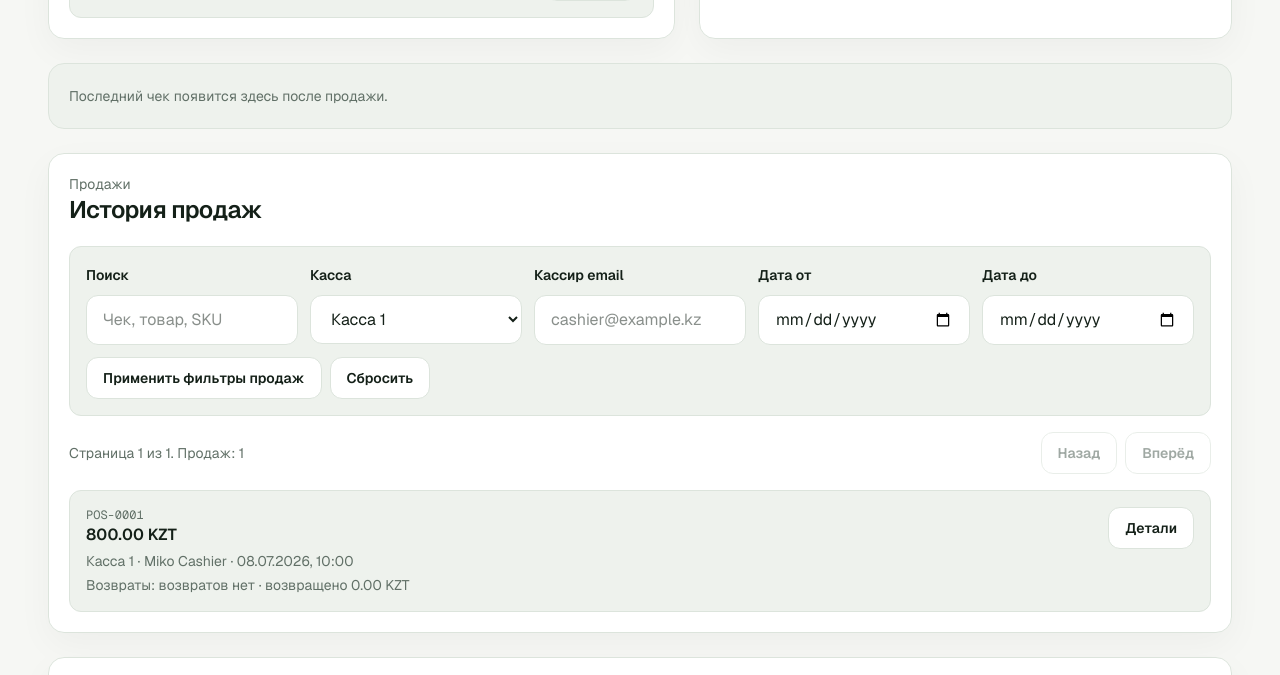
Test: POSManager sales history and receipt › applies sales history filters and opens sale details
(page scrolled)
In the search field labelled "Поиск": (192, 320) [86, 295, 298, 345], type "milk"
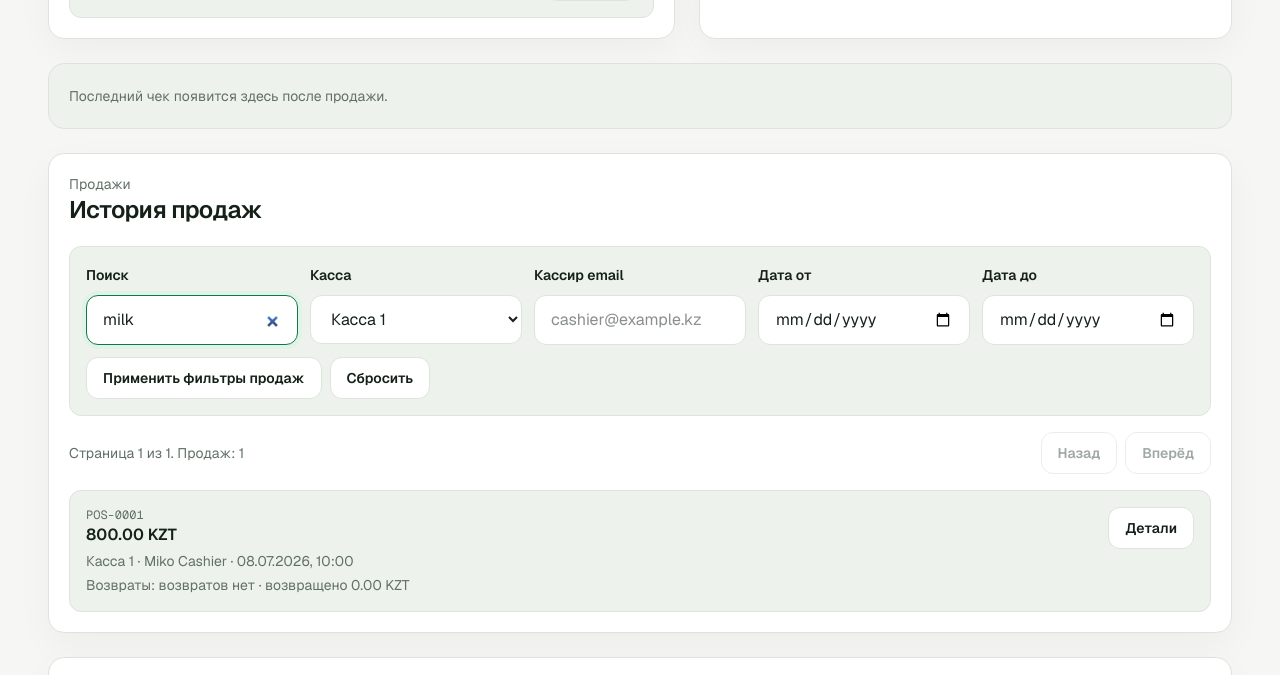
In the field labelled "Кассир email": (640, 320) [534, 295, 746, 345], type "cashier@example.test"
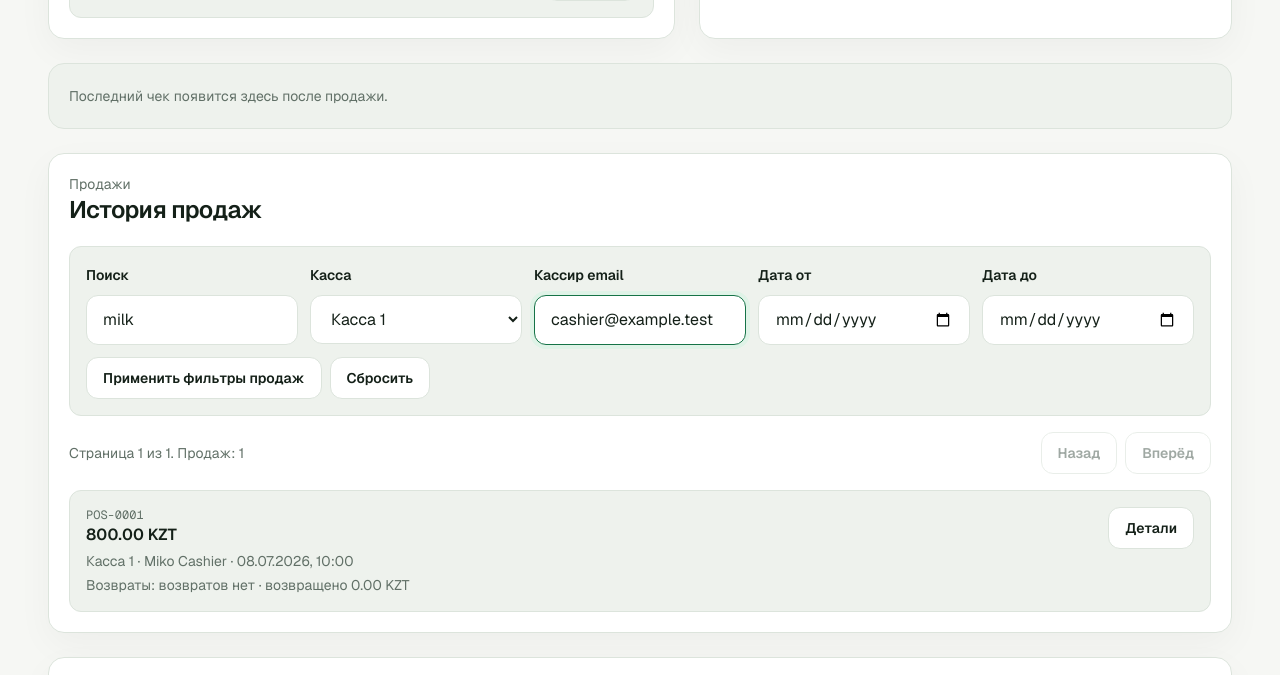
In the date field labelled "Дата от": (864, 320) [758, 295, 970, 345], type "2026-07-08"
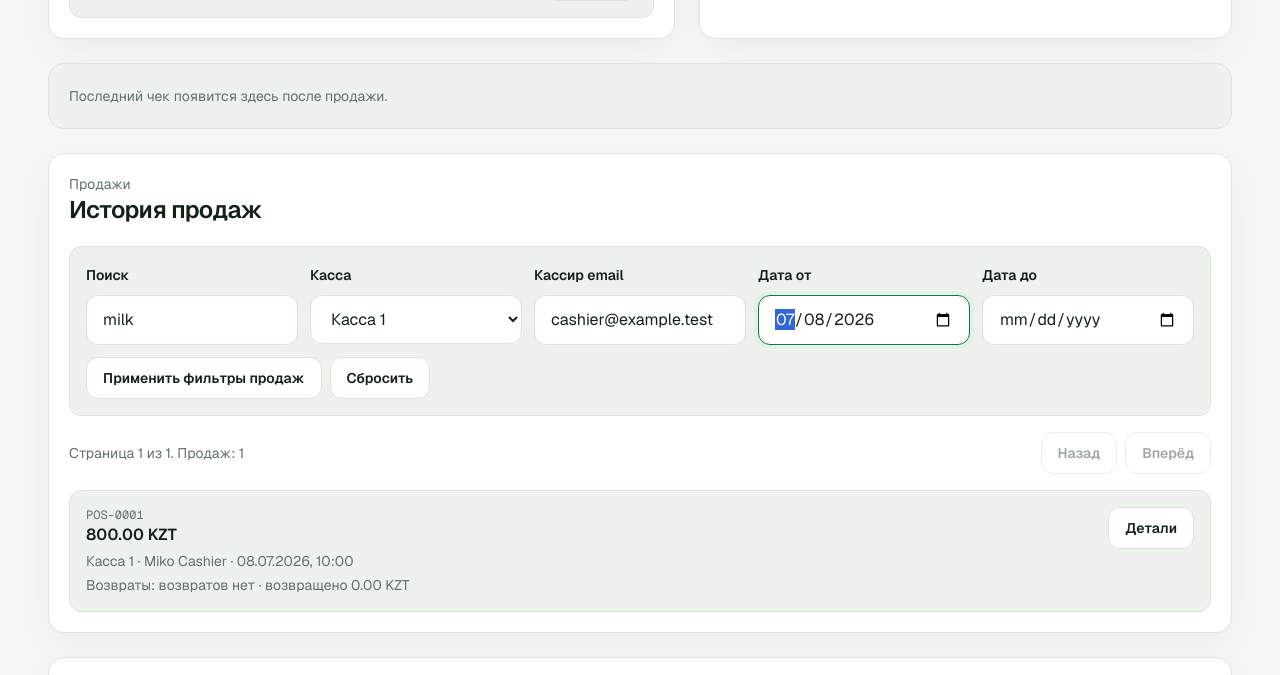
In the date field labelled "Дата до": (1088, 320) [982, 295, 1194, 345], type "2026-07-09"
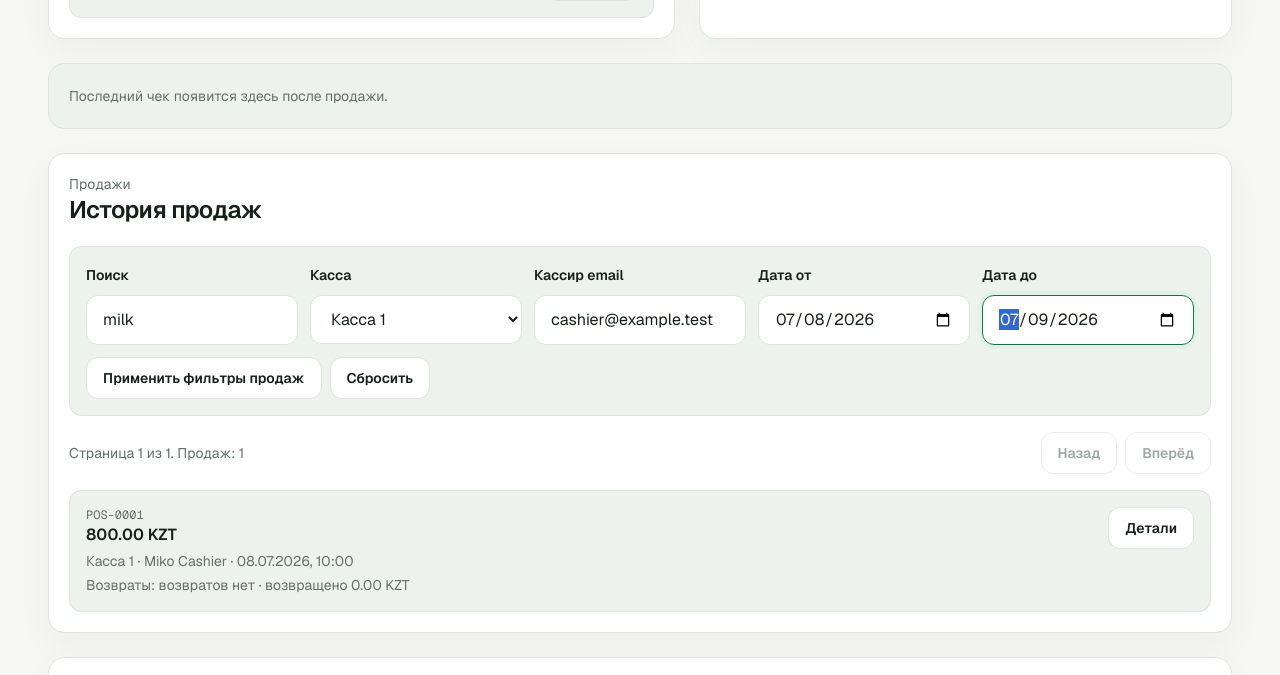
Click the button "Применить фильтры продаж": (204, 378) [86, 357, 322, 399]
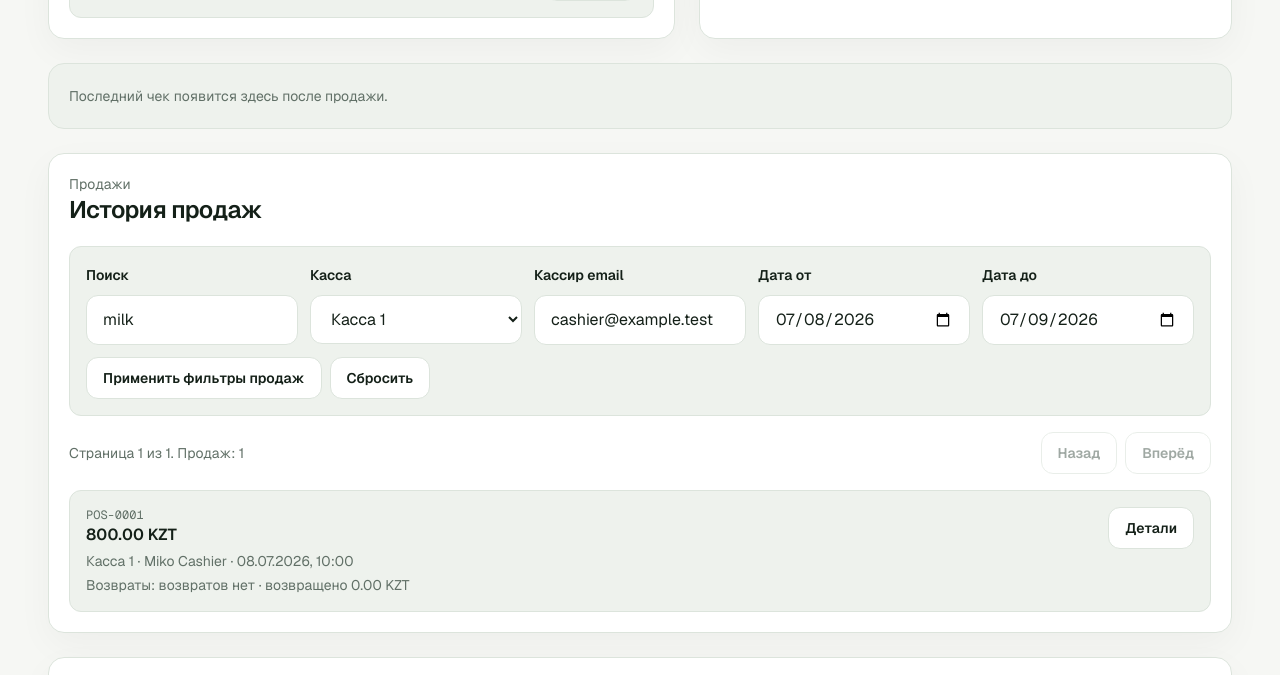
Click the button "Детали": (1151, 528) [1108, 507, 1194, 549]
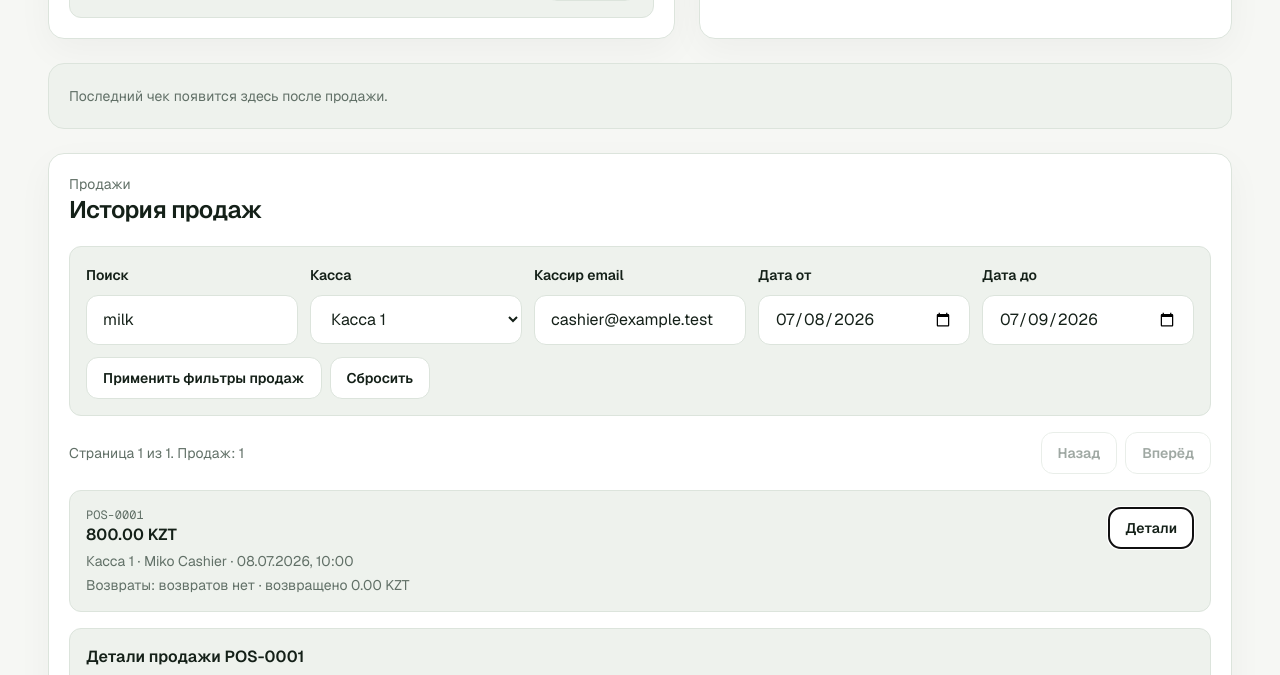
Expected: the heading "Детали продажи POS-0001" is shown, [86, 646, 304, 667]
